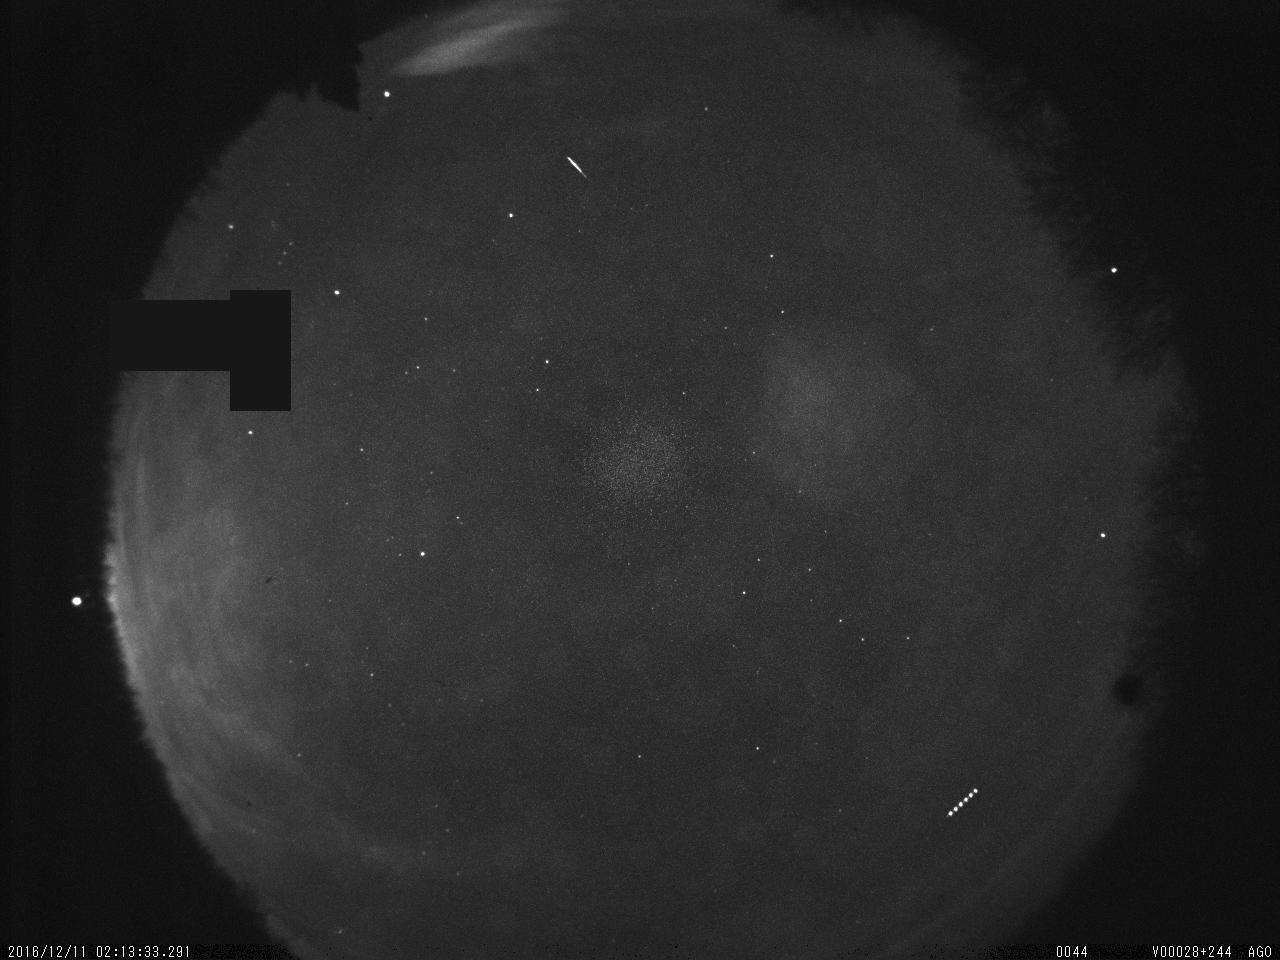Meteor: (560, 149, 594, 193)
